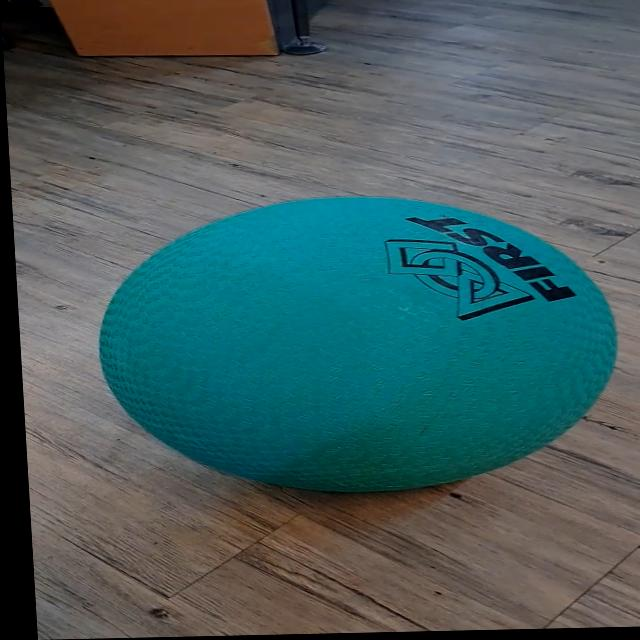ALGAE: (88, 189, 628, 499)
